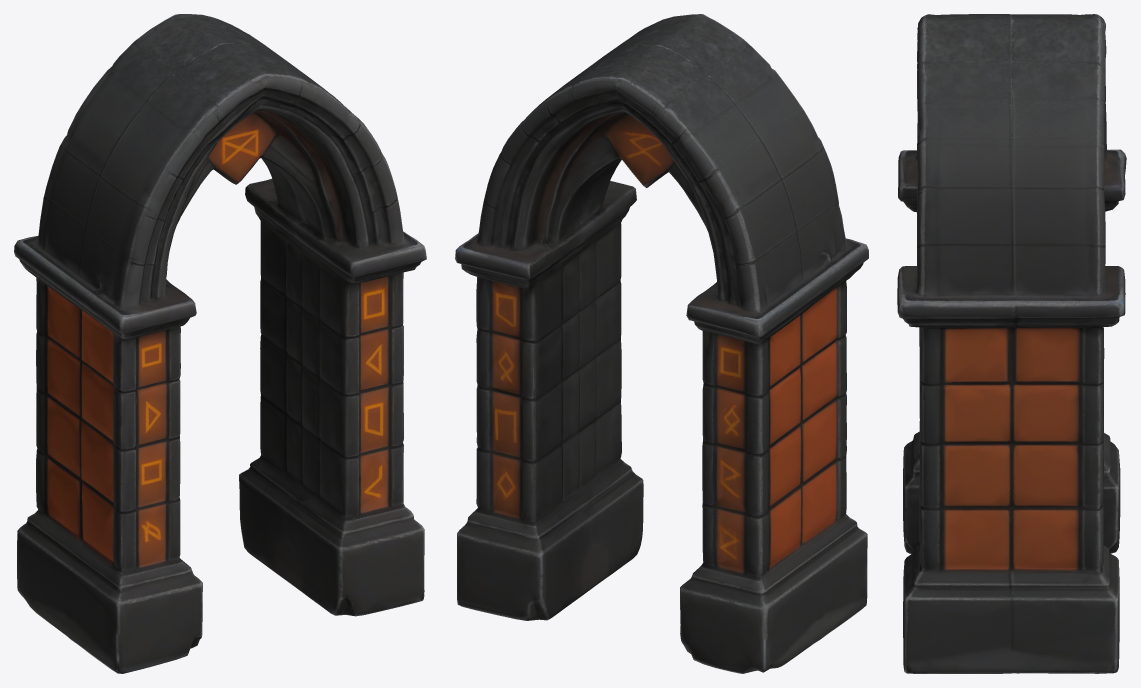
The model's file is doorway_archway_runic.glb.
3 renders of one model, left to right at view 1: azimuth 30°, elevation 25°; view 2: azimuth 150°, elevation 25°; view 3: azimuth 270°, elevation 25°, orthographic. The views are drawn at different scales.
Size of the model in its own units: 1.16 by 2 by 0.7188.
1 material, 1 textured.
